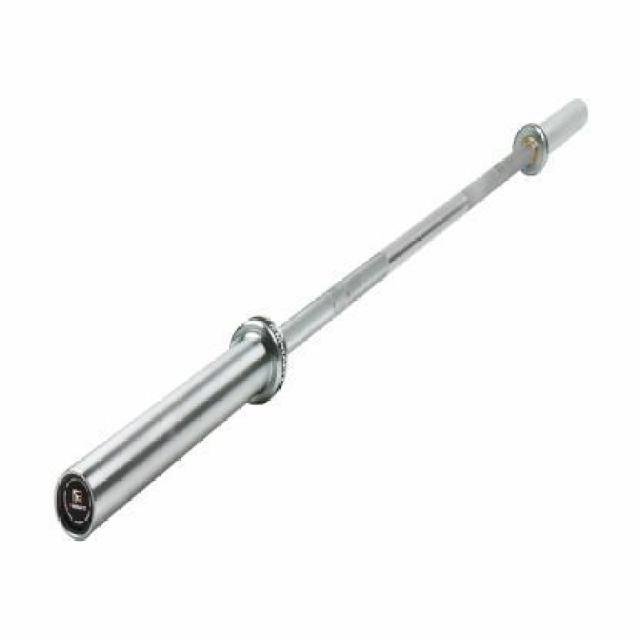Barbell: (50, 452, 101, 568)
